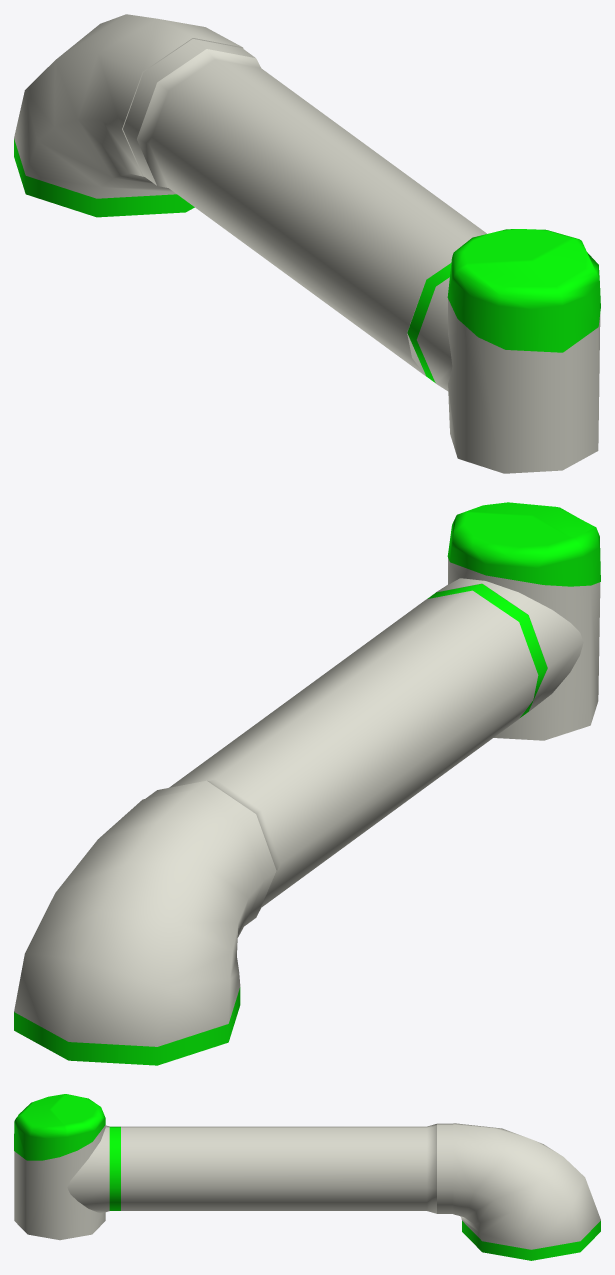
The model's file is joint3.obj.
The picture shows the model from 3 angles, top to bottom: view 1: azimuth 30°, elevation 25°; view 2: azimuth 150°, elevation 25°; view 3: azimuth 270°, elevation 25°; orthographic projection. The views are drawn at different scales.
Bounding box in the file's own units: 116 × 112 × 489.
